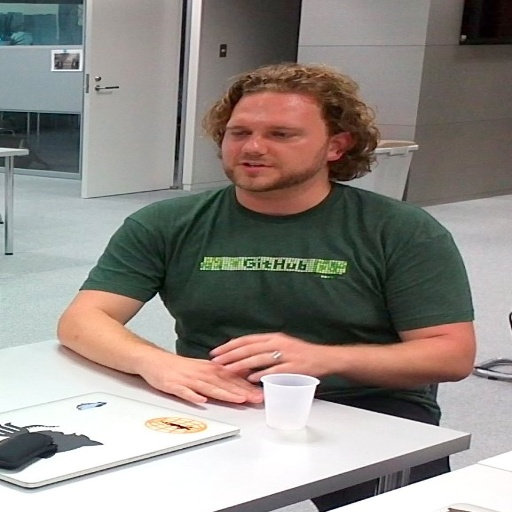hand: (111, 347, 263, 415), (209, 329, 330, 383)
